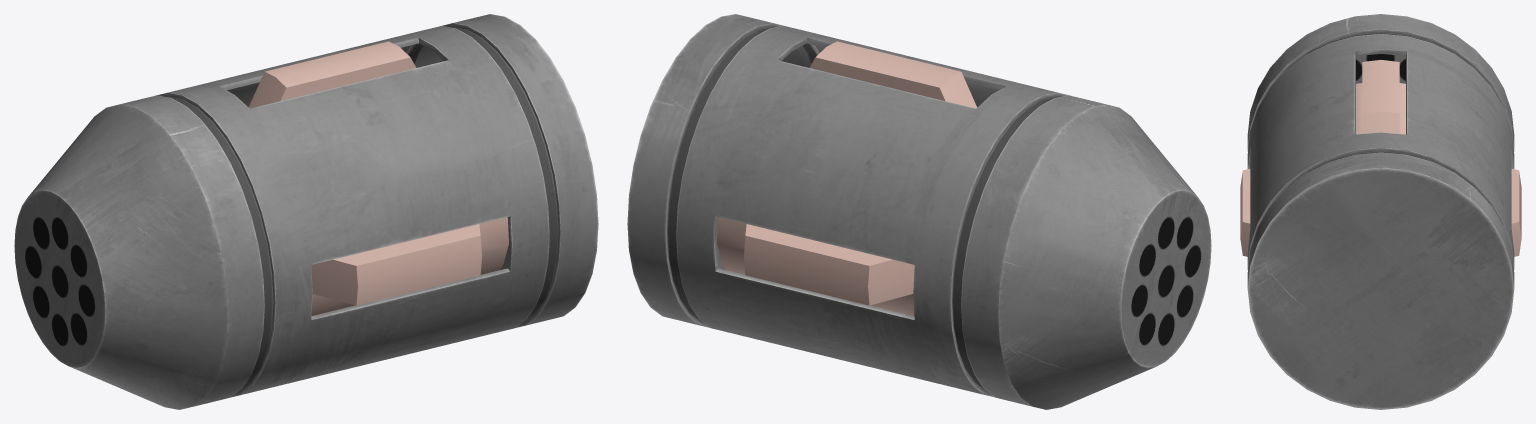
File: pommel_7_c_c.glb
3 renders of one model, left to right at view 1: azimuth 30°, elevation 25°; view 2: azimuth 150°, elevation 25°; view 3: azimuth 270°, elevation 25°, orthographic. The views are drawn at different scales.
Parts seen in each view (by area): view 1: pommel_7_c_c_lod0; view 2: pommel_7_c_c_lod0; view 3: pommel_7_c_c_lod0.
Part boxes in pixels (x1,y1,x2,y2): pommel_7_c_c_lod0: [14, 14, 598, 409]; pommel_7_c_c_lod0: [627, 14, 1211, 409]; pommel_7_c_c_lod0: [1240, 14, 1521, 409].
Size of what is drawn, in the model's own units: 0.0492 by 0.0305 by 0.0305.
1 material, 1 textured.
